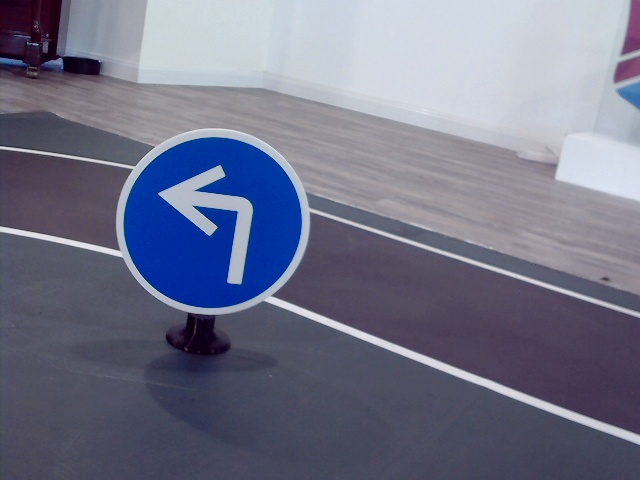turn_left: (158, 155, 253, 290)
